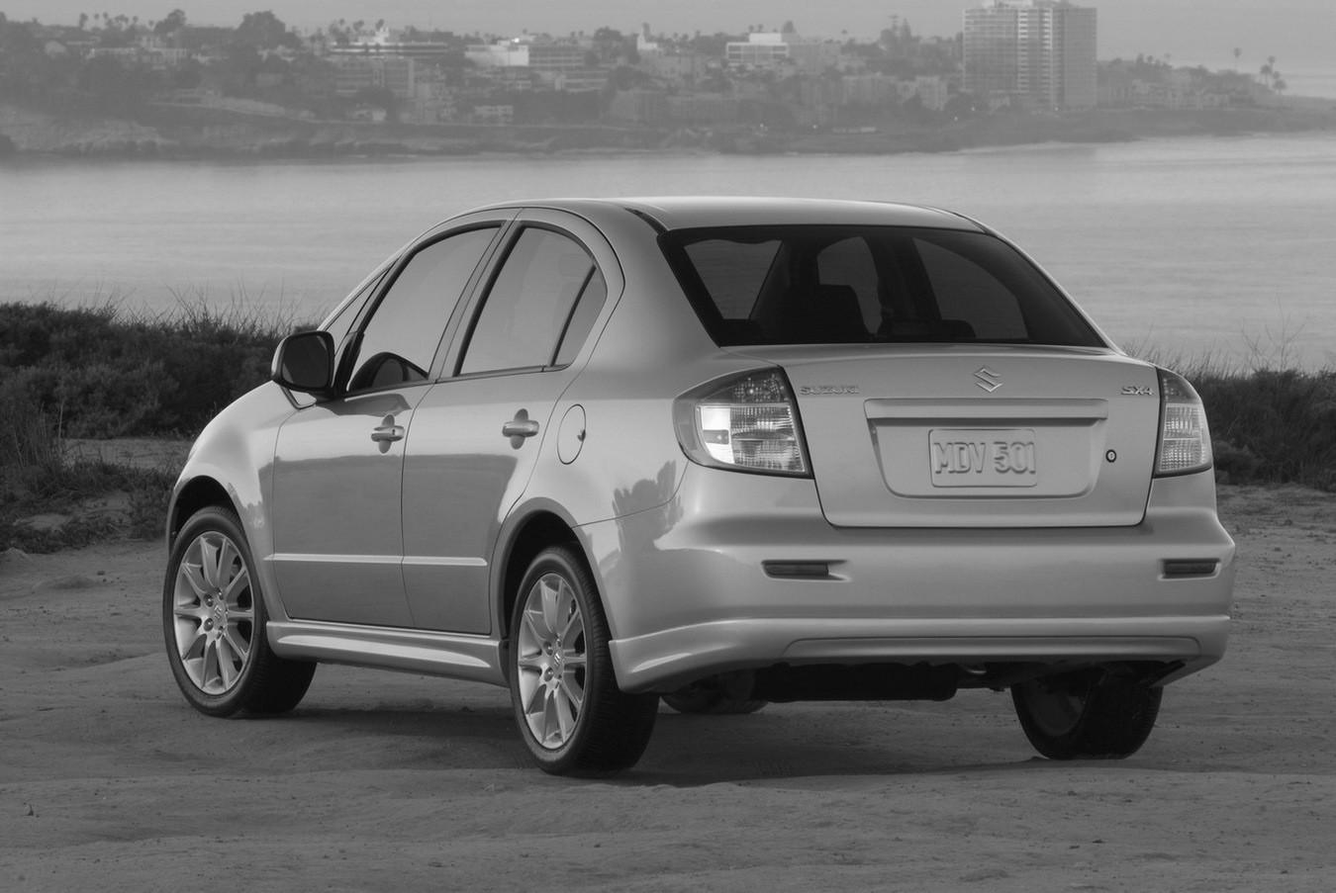car: (155, 187, 1249, 784)
